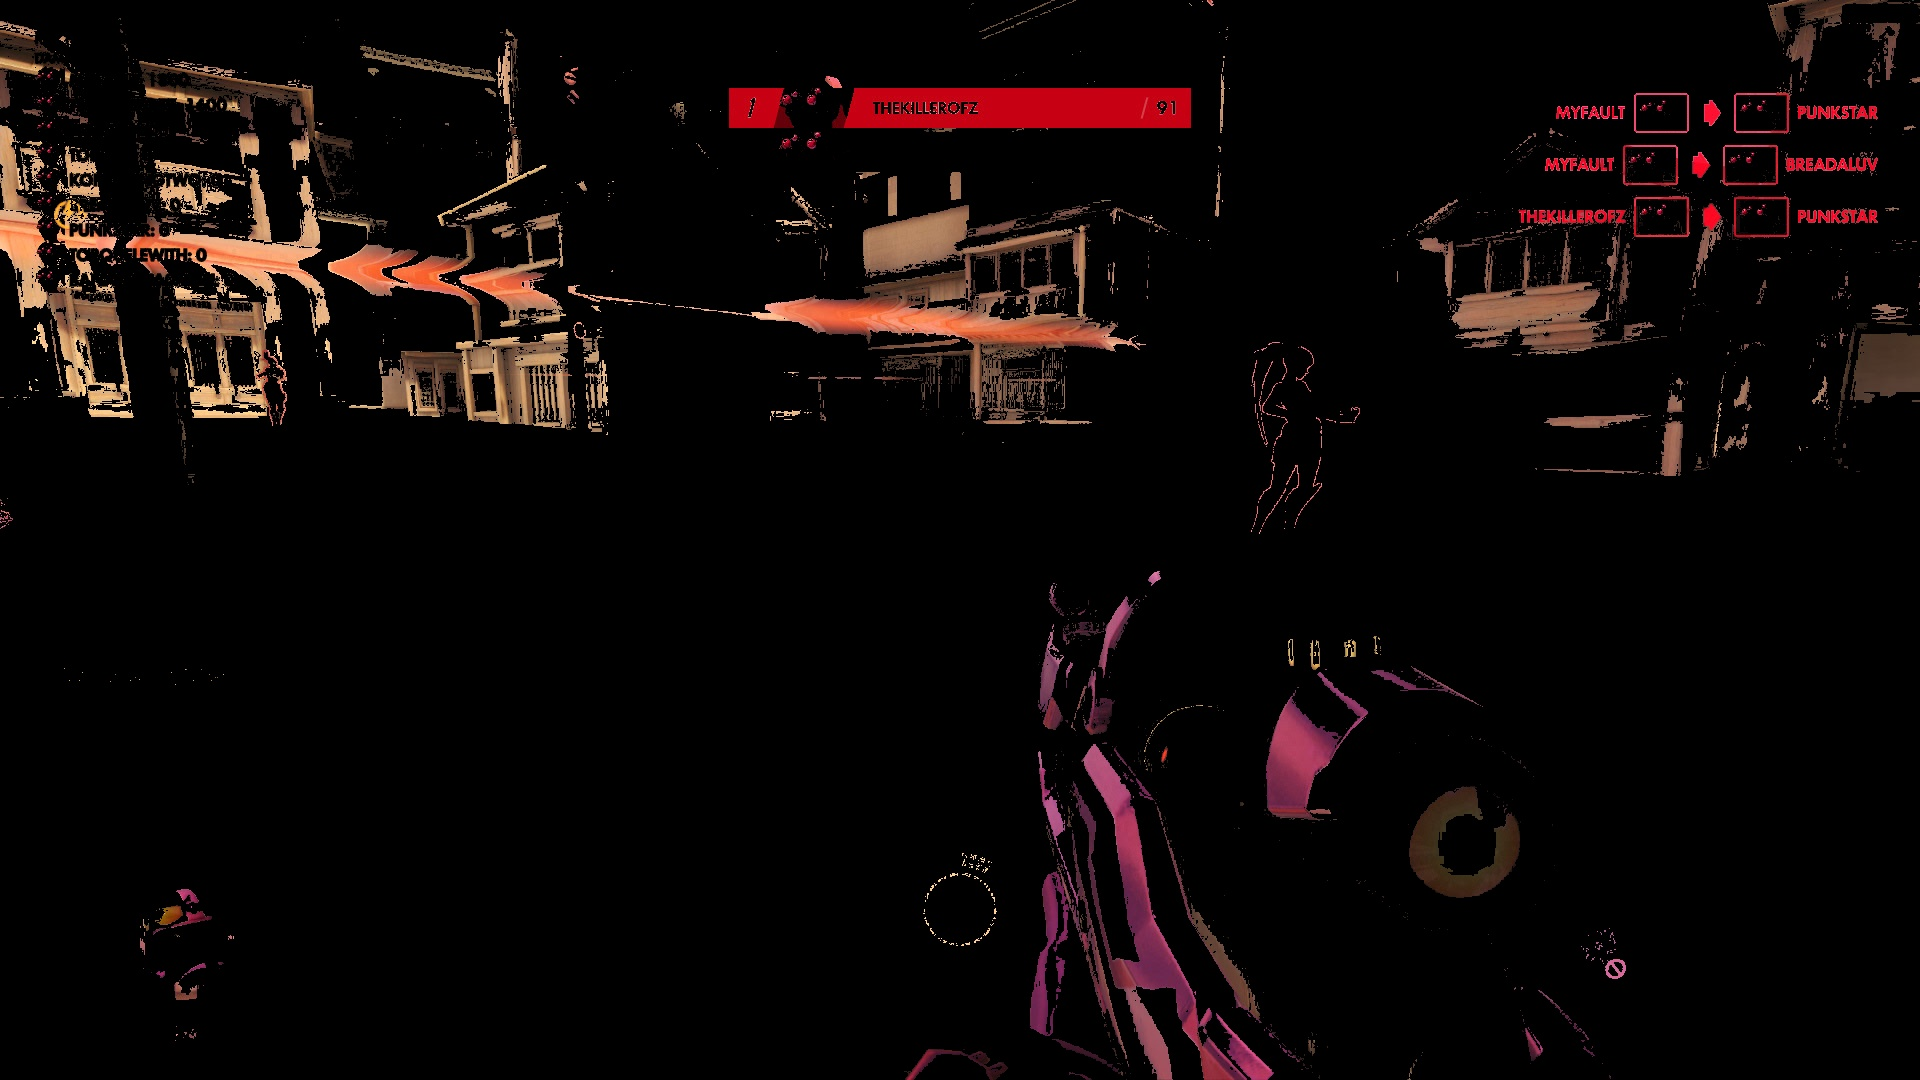widowmaker: (1244, 336, 1371, 566), (253, 345, 295, 439)
